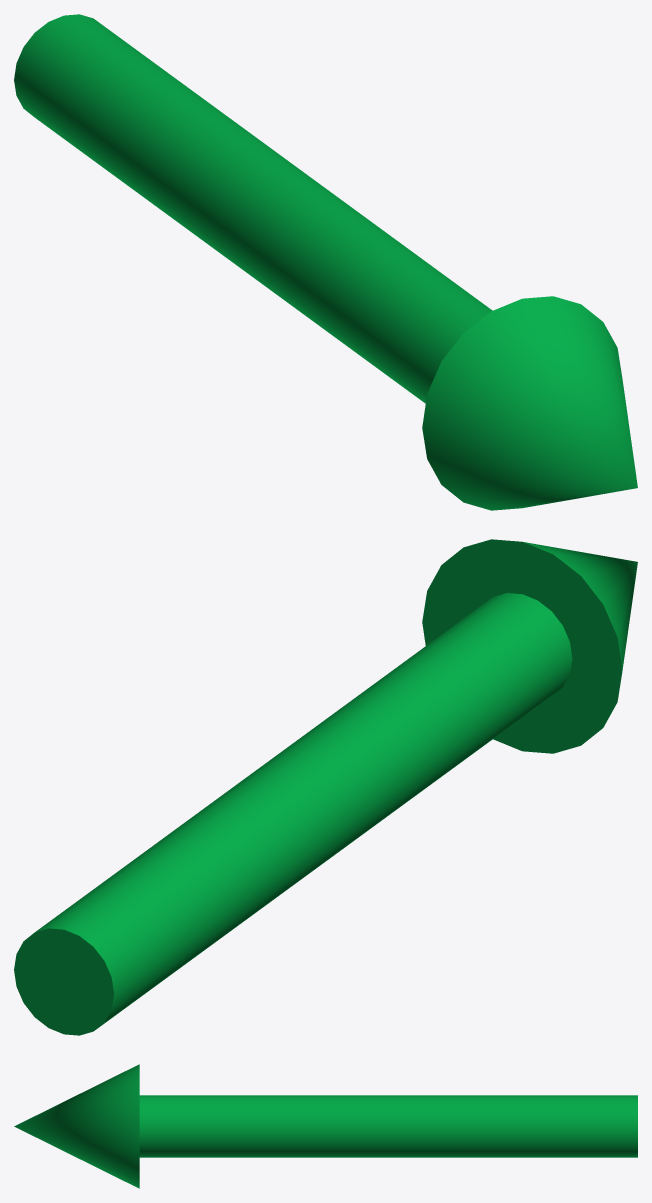
File: arrowStraight.fbx
The picture shows the model from 3 angles, top to bottom: view 1: azimuth 30°, elevation 25°; view 2: azimuth 150°, elevation 25°; view 3: azimuth 270°, elevation 25°; orthographic projection. The views are drawn at different scales.
Visible parts, largest first — view 1: pCylinder1, pCone1; view 2: pCylinder1, pCone1; view 3: pCylinder1, pCone1.
Boxes of the visible parts, box(x1,y1,x2,y2) form: pCylinder1: box(14, 14, 492, 403); pCone1: box(422, 296, 637, 510); pCylinder1: box(14, 593, 572, 1035); pCone1: box(422, 539, 637, 753); pCylinder1: box(139, 1095, 637, 1157); pCone1: box(14, 1064, 139, 1188).
Bounding box in the file's own units: 2 × 2 × 9.93.
